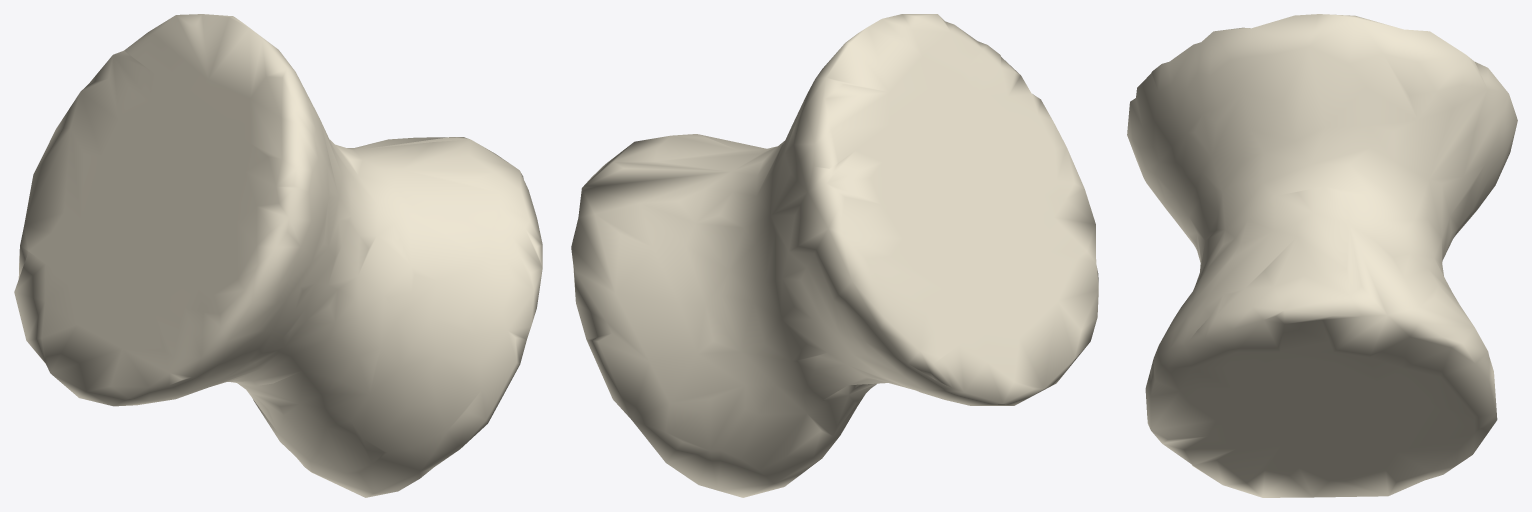
The model's file is caudal_3.glb.
3 renders of one model, left to right at view 1: azimuth 30°, elevation 25°; view 2: azimuth 150°, elevation 25°; view 3: azimuth 270°, elevation 25°, orthographic. The views are drawn at different scales.
Visible parts, largest first — view 1: geometry_0; view 2: geometry_0; view 3: geometry_0.
Boxes of the visible parts, box(x1,y1,x2,y2) form: geometry_0: box(14, 14, 542, 497); geometry_0: box(571, 14, 1098, 497); geometry_0: box(1127, 14, 1517, 497).
Size of the model in its own units: 0.075 by 0.0761 by 0.0606.
